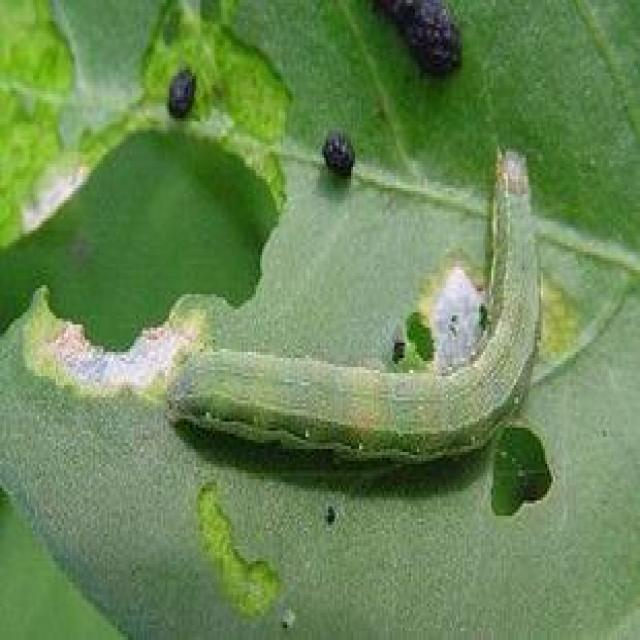BeetArmyWorm-Larva-: (164, 147, 546, 467)
